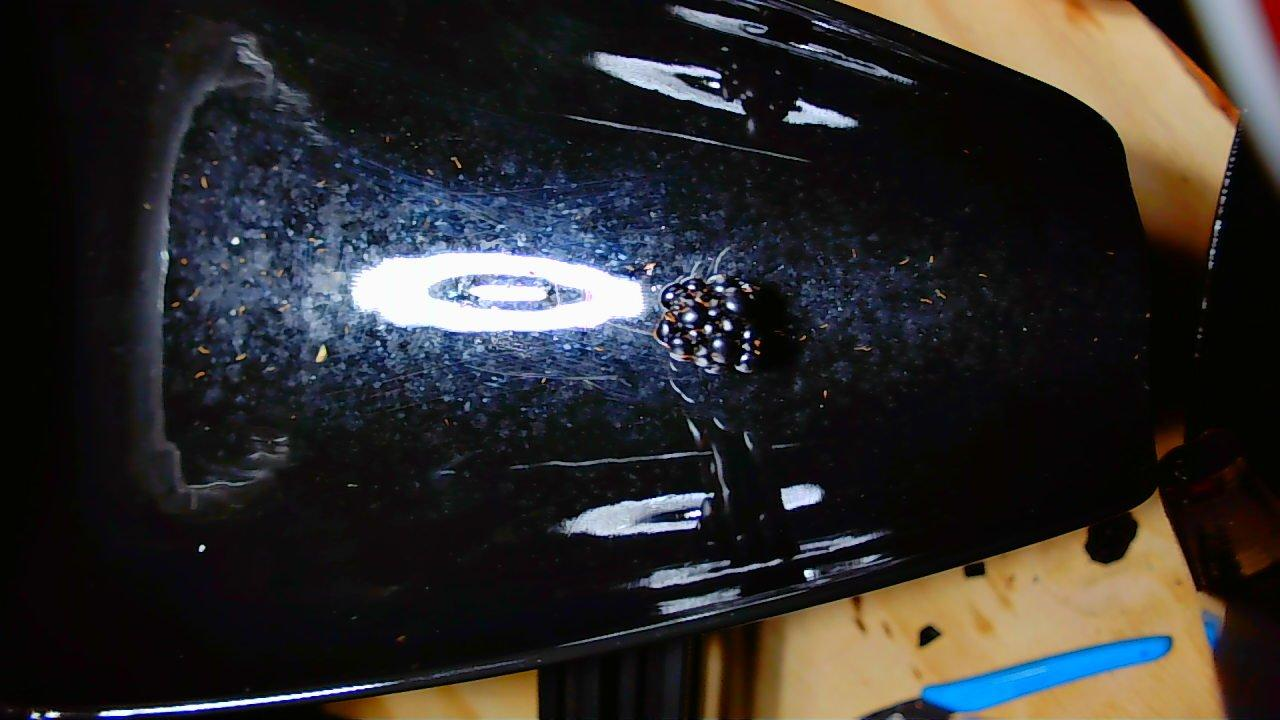berry: (654, 274, 763, 373)
